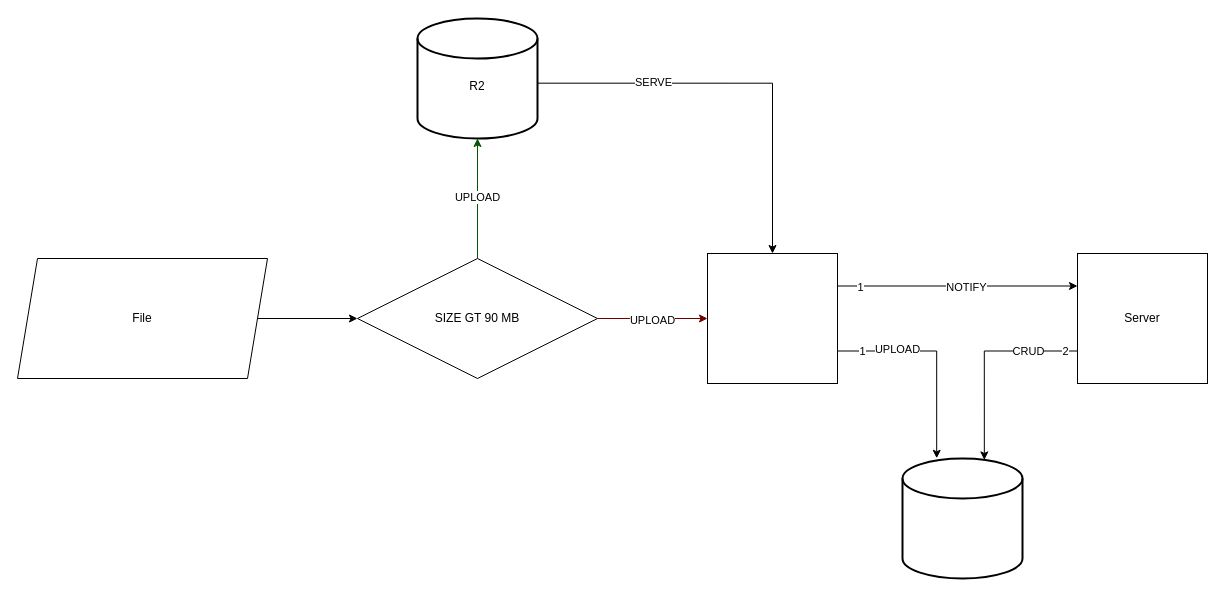
Image size: 1225x596. Some labels were removed from this diagram. Each missing label, with the centre of its shape:
"CF Worker" goes at (x=772, y=318).
"HF" goes at (x=962, y=518).
